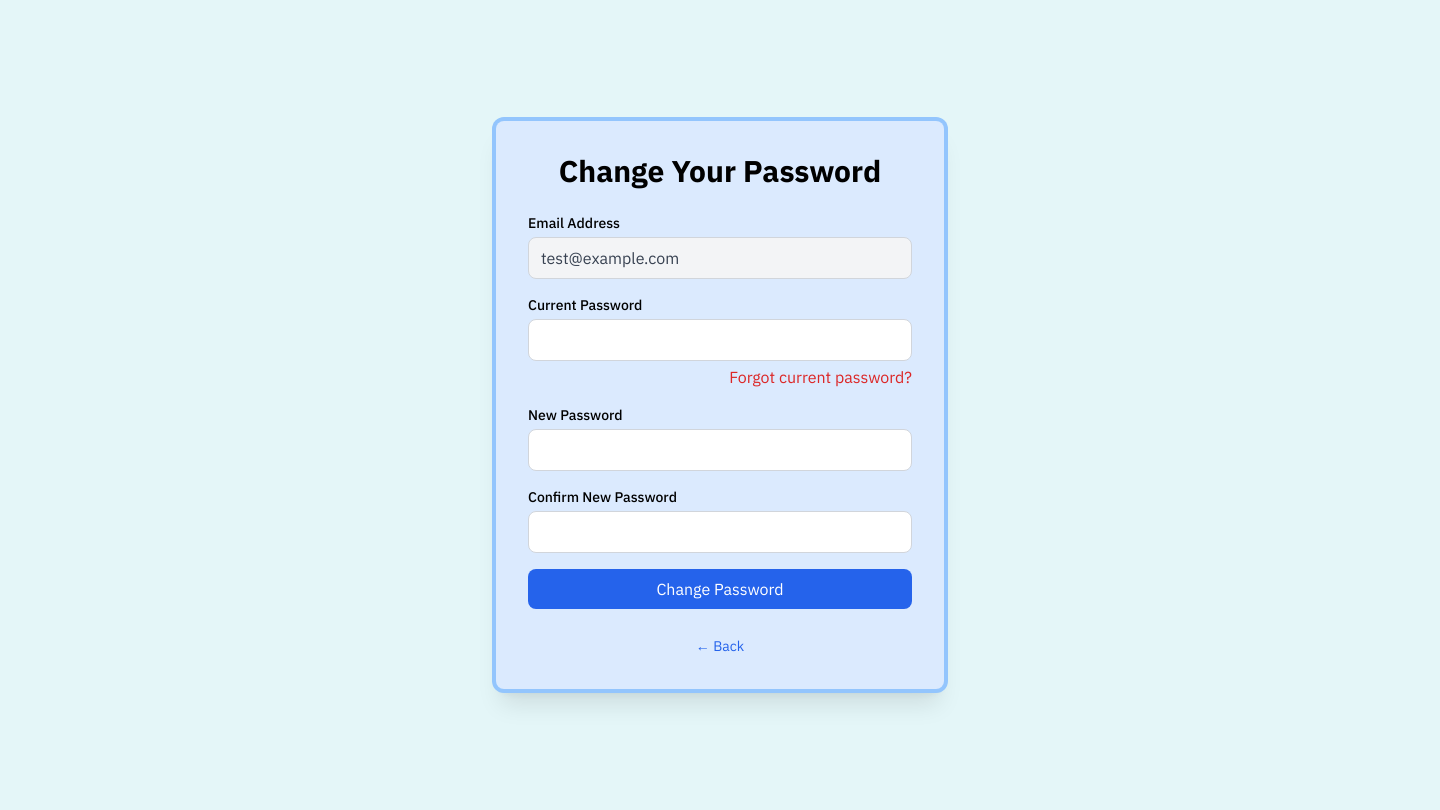
Test: ChangePassword › shows error when passwords do not match
The width and height of the screenshot is (1440, 810).
In the password field labelled "Current Password": (720, 340) x1=528 y1=319 x2=912 y2=361, type "OldPass123!"
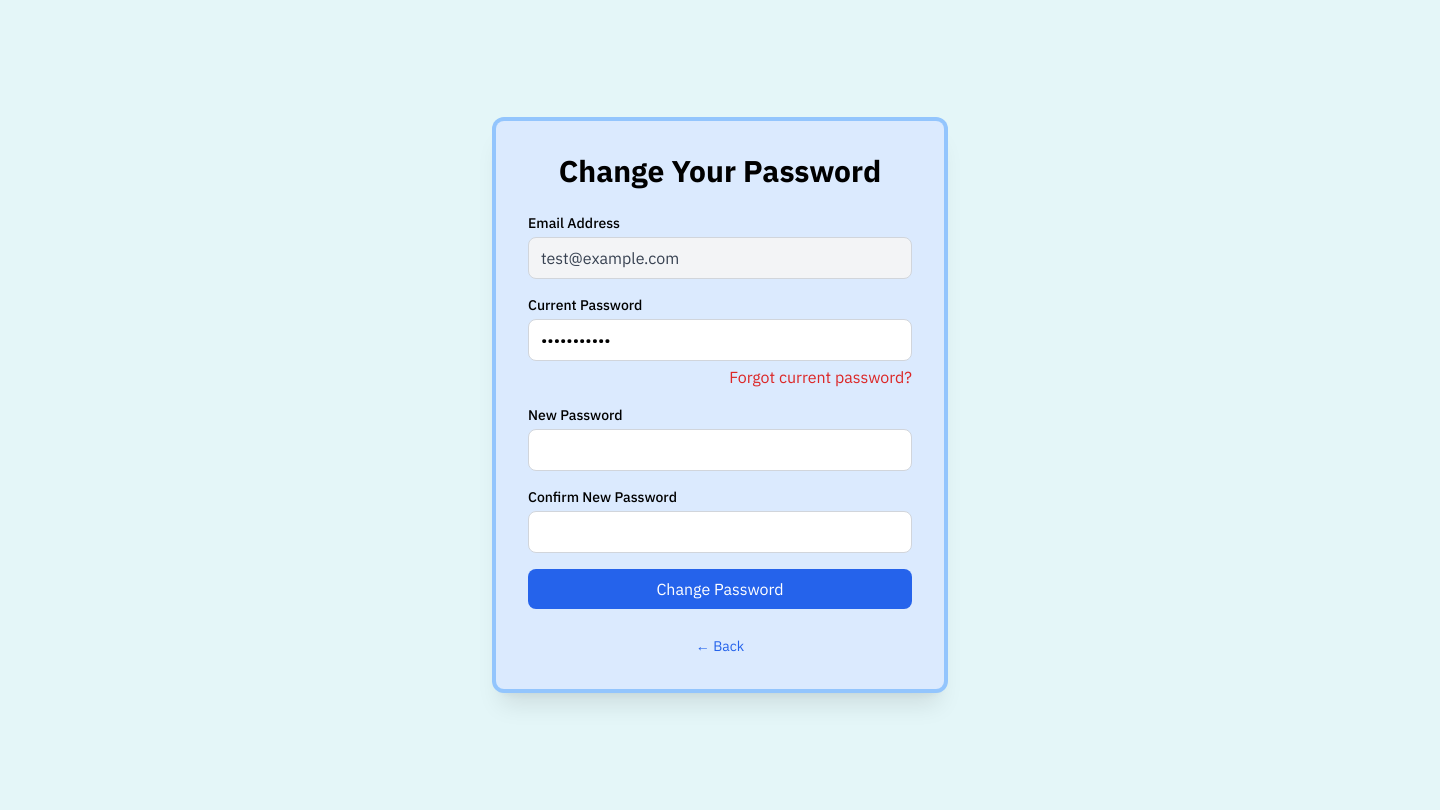
In the password field labelled "New Password": (720, 450) x1=528 y1=429 x2=912 y2=471, type "NewPass123!"
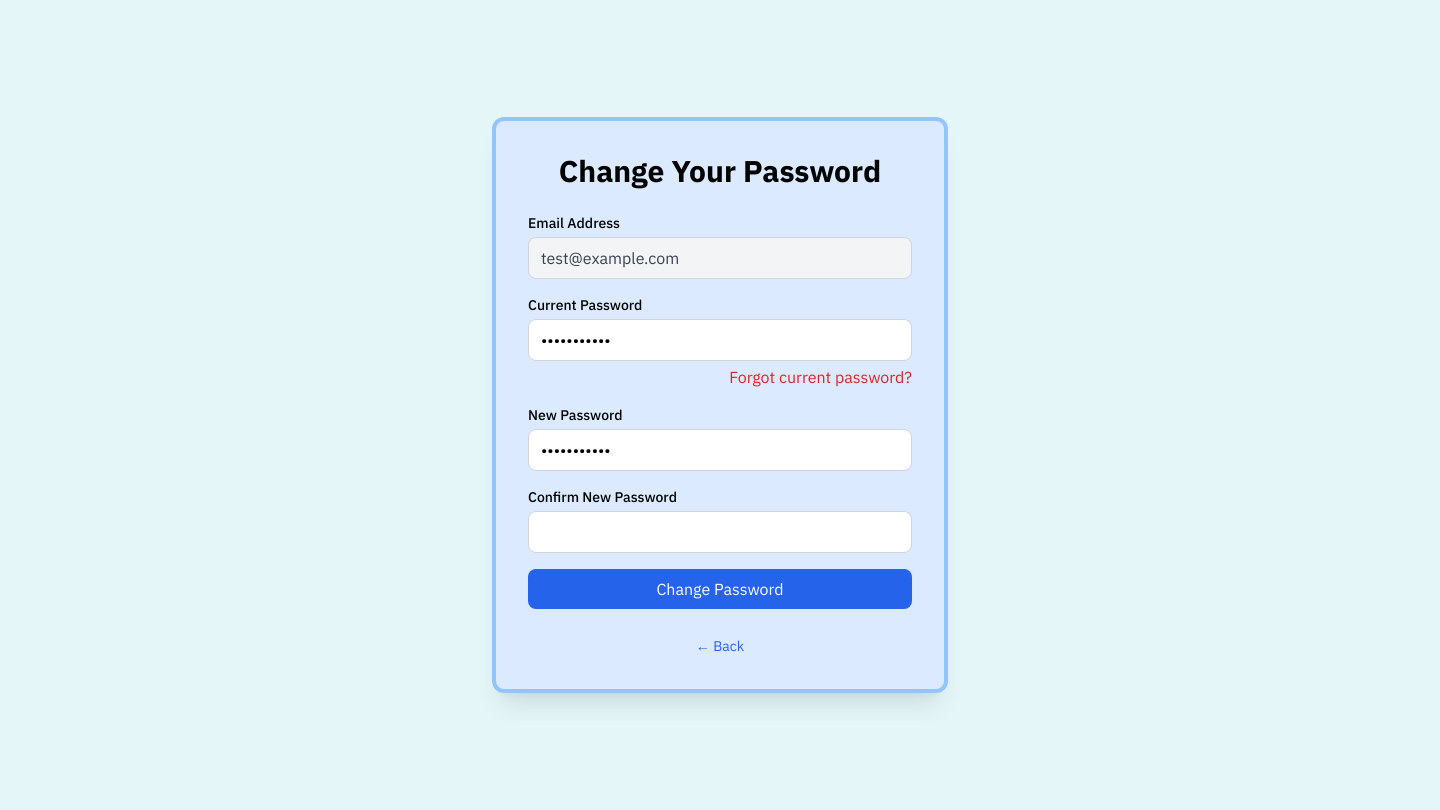
In the password field labelled "Confirm New Password": (720, 532) x1=528 y1=511 x2=912 y2=553, type "DifferentPass123!"
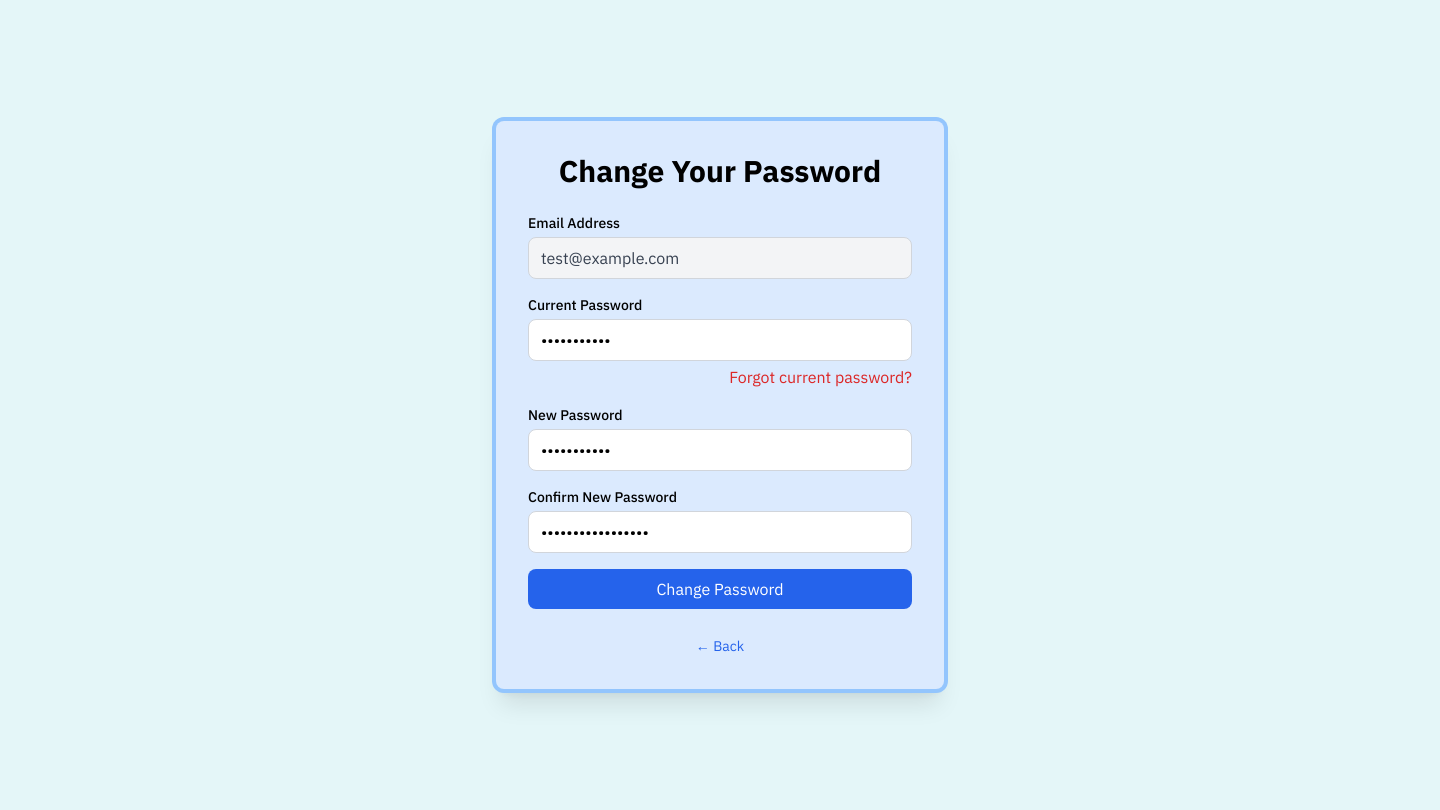
Click the button "Change Password": (720, 589) x1=528 y1=569 x2=912 y2=609
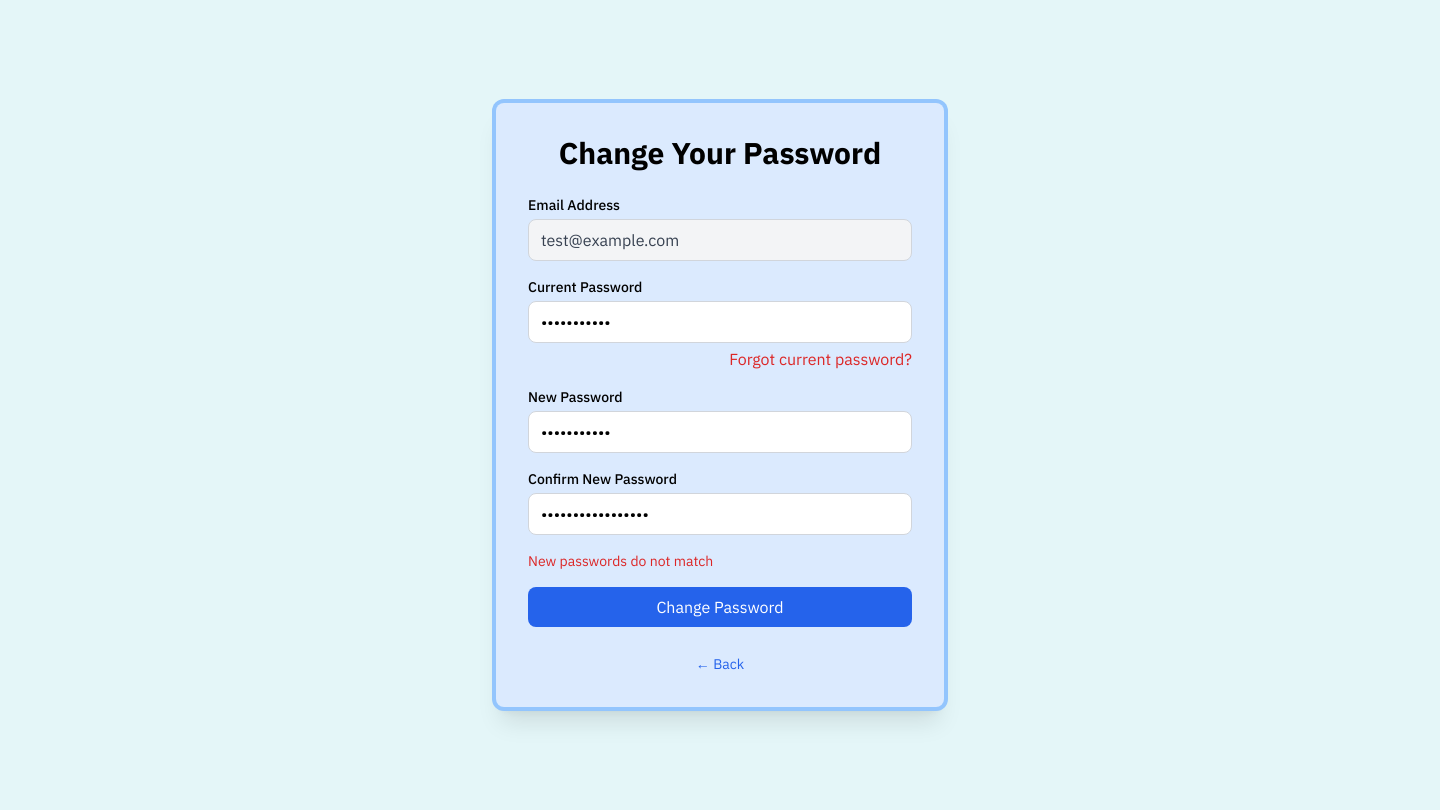
Expected: the text "New passwords do not match" is shown, x1=528 y1=552 x2=713 y2=570
